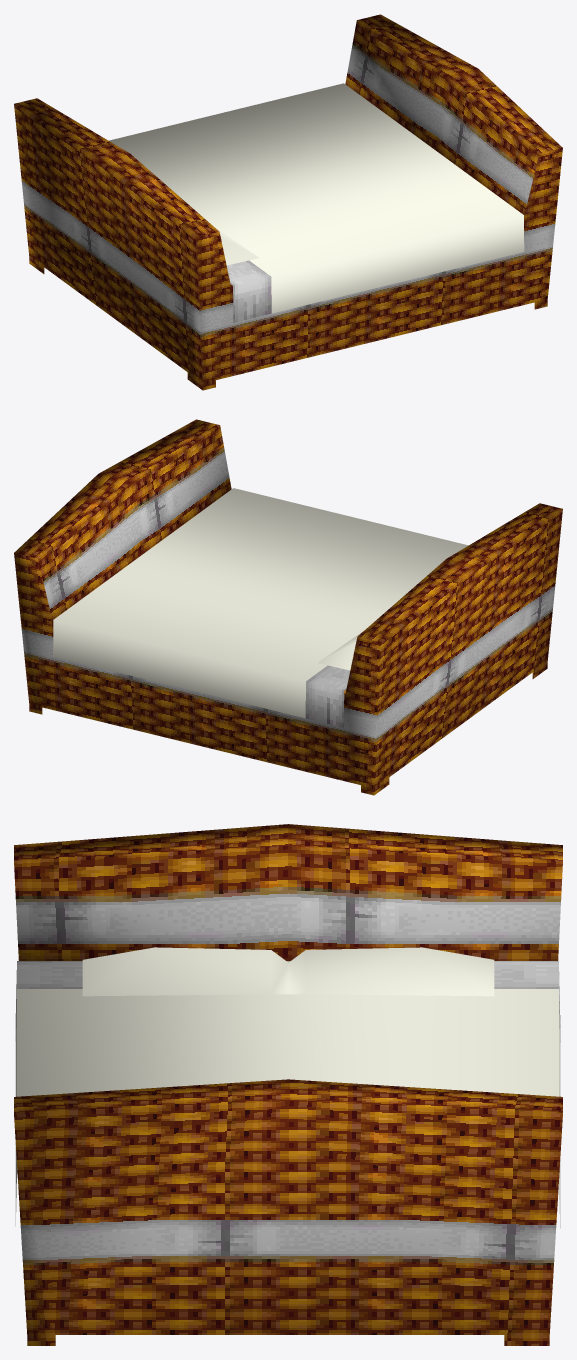
Rendered from rmk_rst_bedW_mtl.dae.
3 views of the same model, one above another, from view 1: azimuth 30°, elevation 25°; view 2: azimuth 150°, elevation 25°; view 3: azimuth 270°, elevation 25° (orthographic). The views are drawn at different scales.
Parts seen in each view (by area): view 1: rmk_rst_bedW_mtl; view 2: rmk_rst_bedW_mtl; view 3: rmk_rst_bedW_mtl.
Boxes of the visible parts, x1=… form: rmk_rst_bedW_mtl: x1=14, y1=14, x2=562, y2=390; rmk_rst_bedW_mtl: x1=14, y1=419, x2=562, y2=795; rmk_rst_bedW_mtl: x1=14, y1=824, x2=562, y2=1345.
Size of the model in its own units: 63.34 by 27.02 by 52.62.
Materials: 3 (3 with a texture image).
